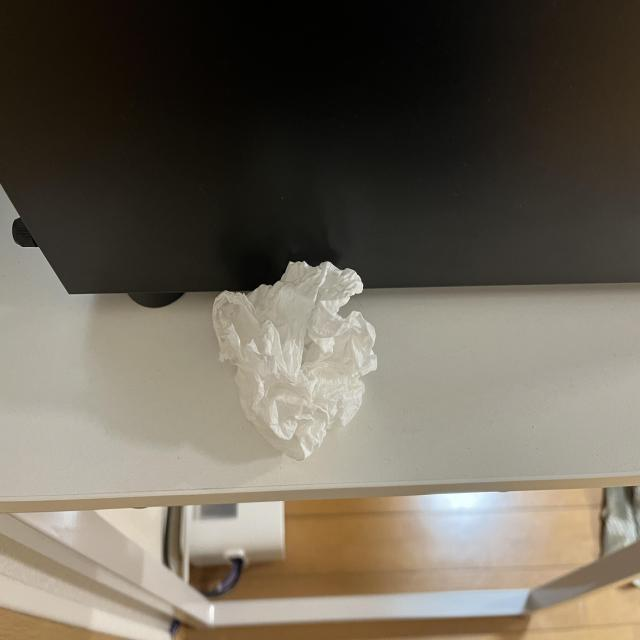Paper: (208, 244, 384, 487)
